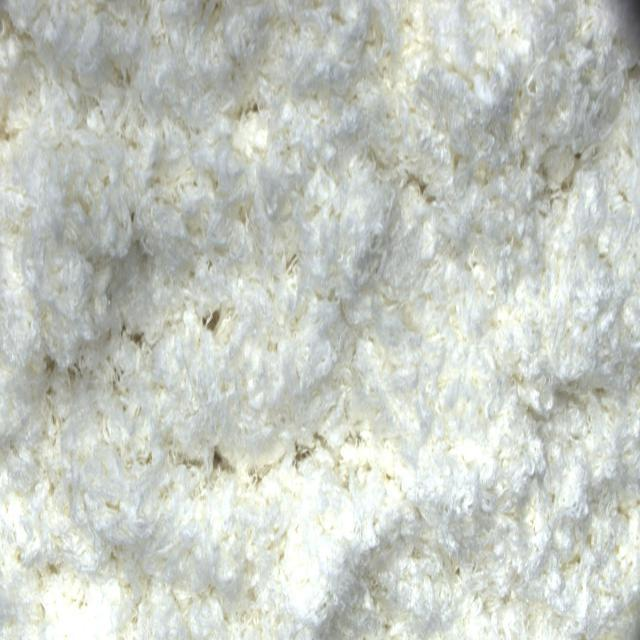dust: (206, 450, 245, 483), (203, 301, 227, 338)
